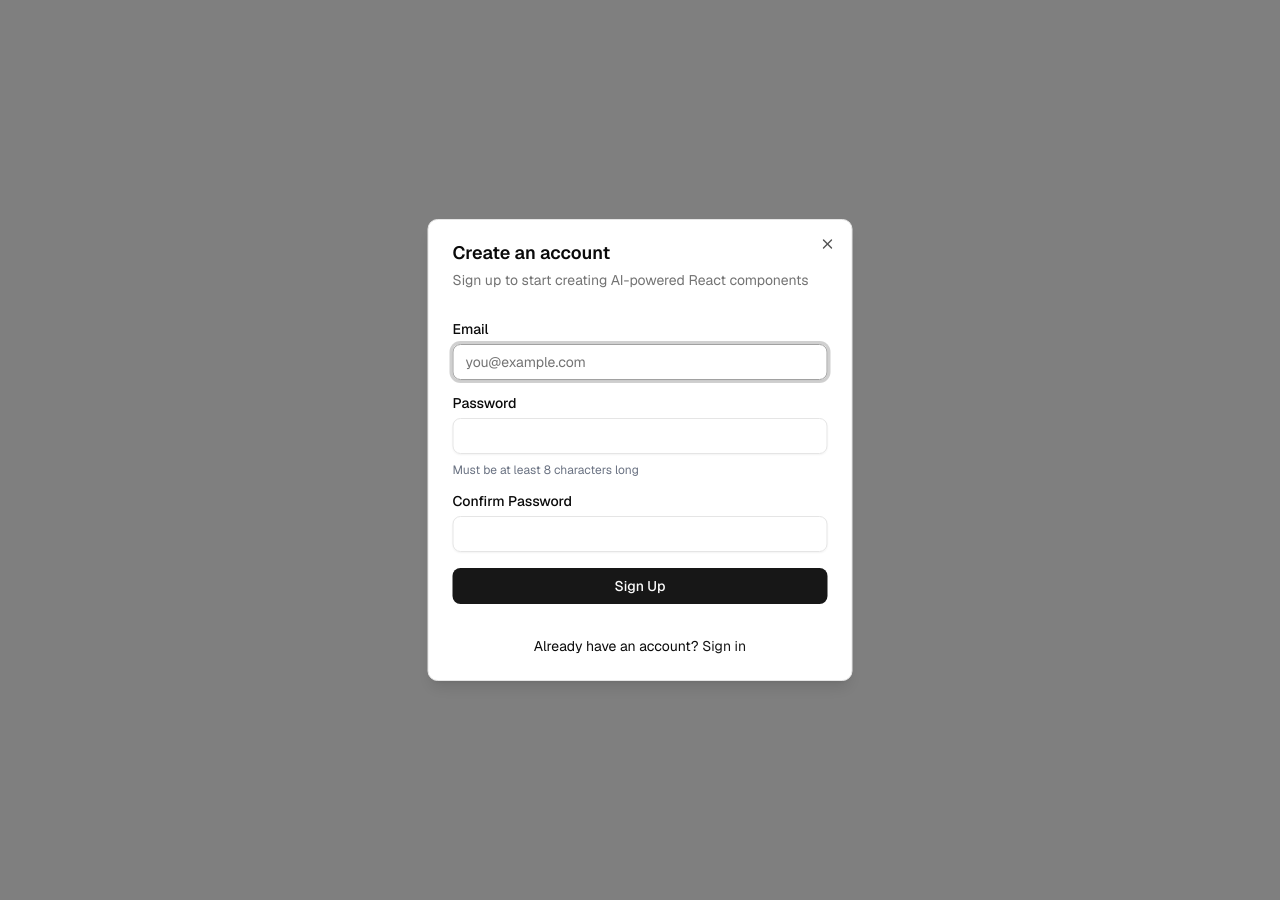
Test case: switches to sign in form when Sign in link is clicked
The width and height of the screenshot is (1280, 900).
What coordinates should you click on to do the following:
click the button "Sign in"
I would click on:
 (724, 646)
Its box is [702,636,746,656].
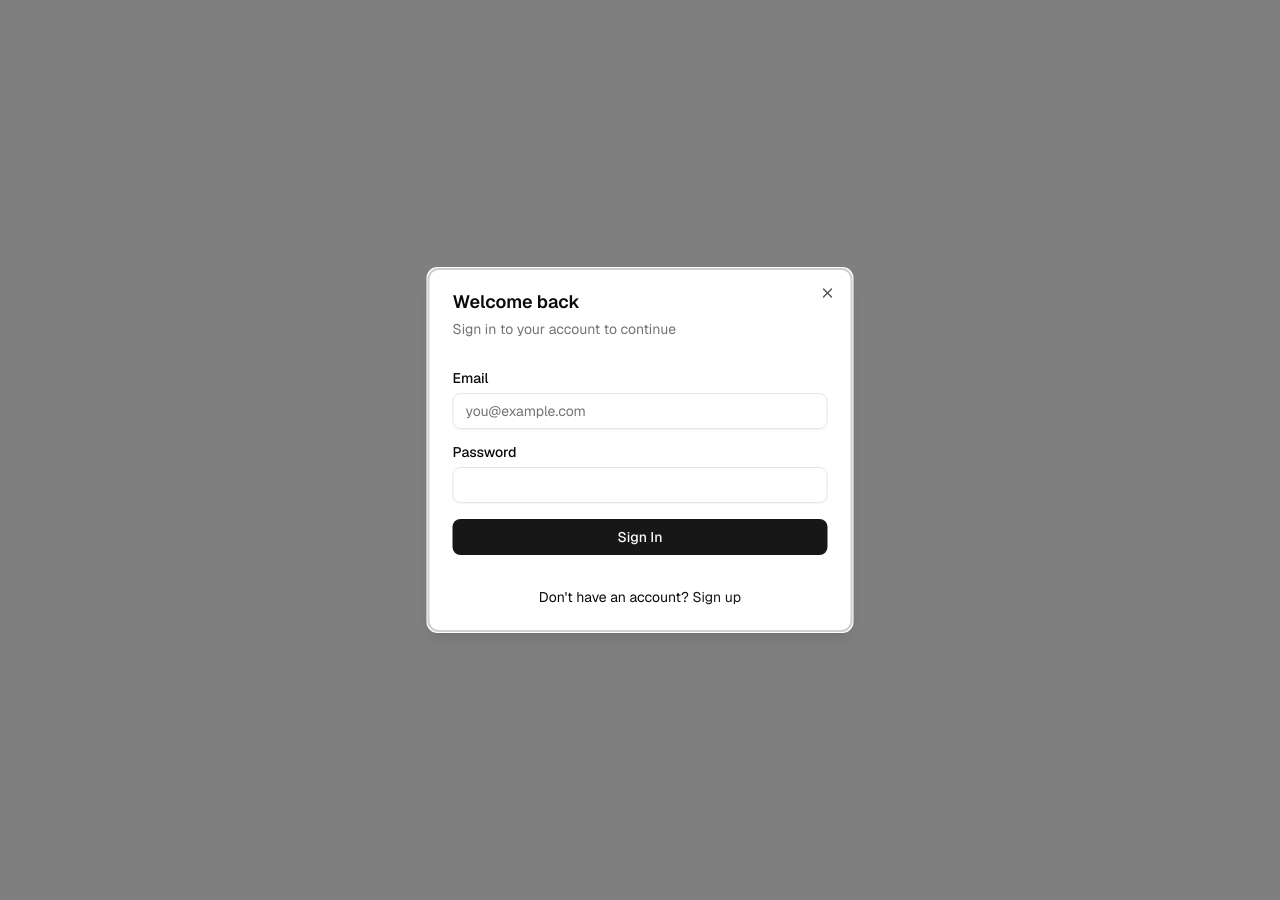
Check: the heading "Welcome back" is shown, box [452,290,580,313]
